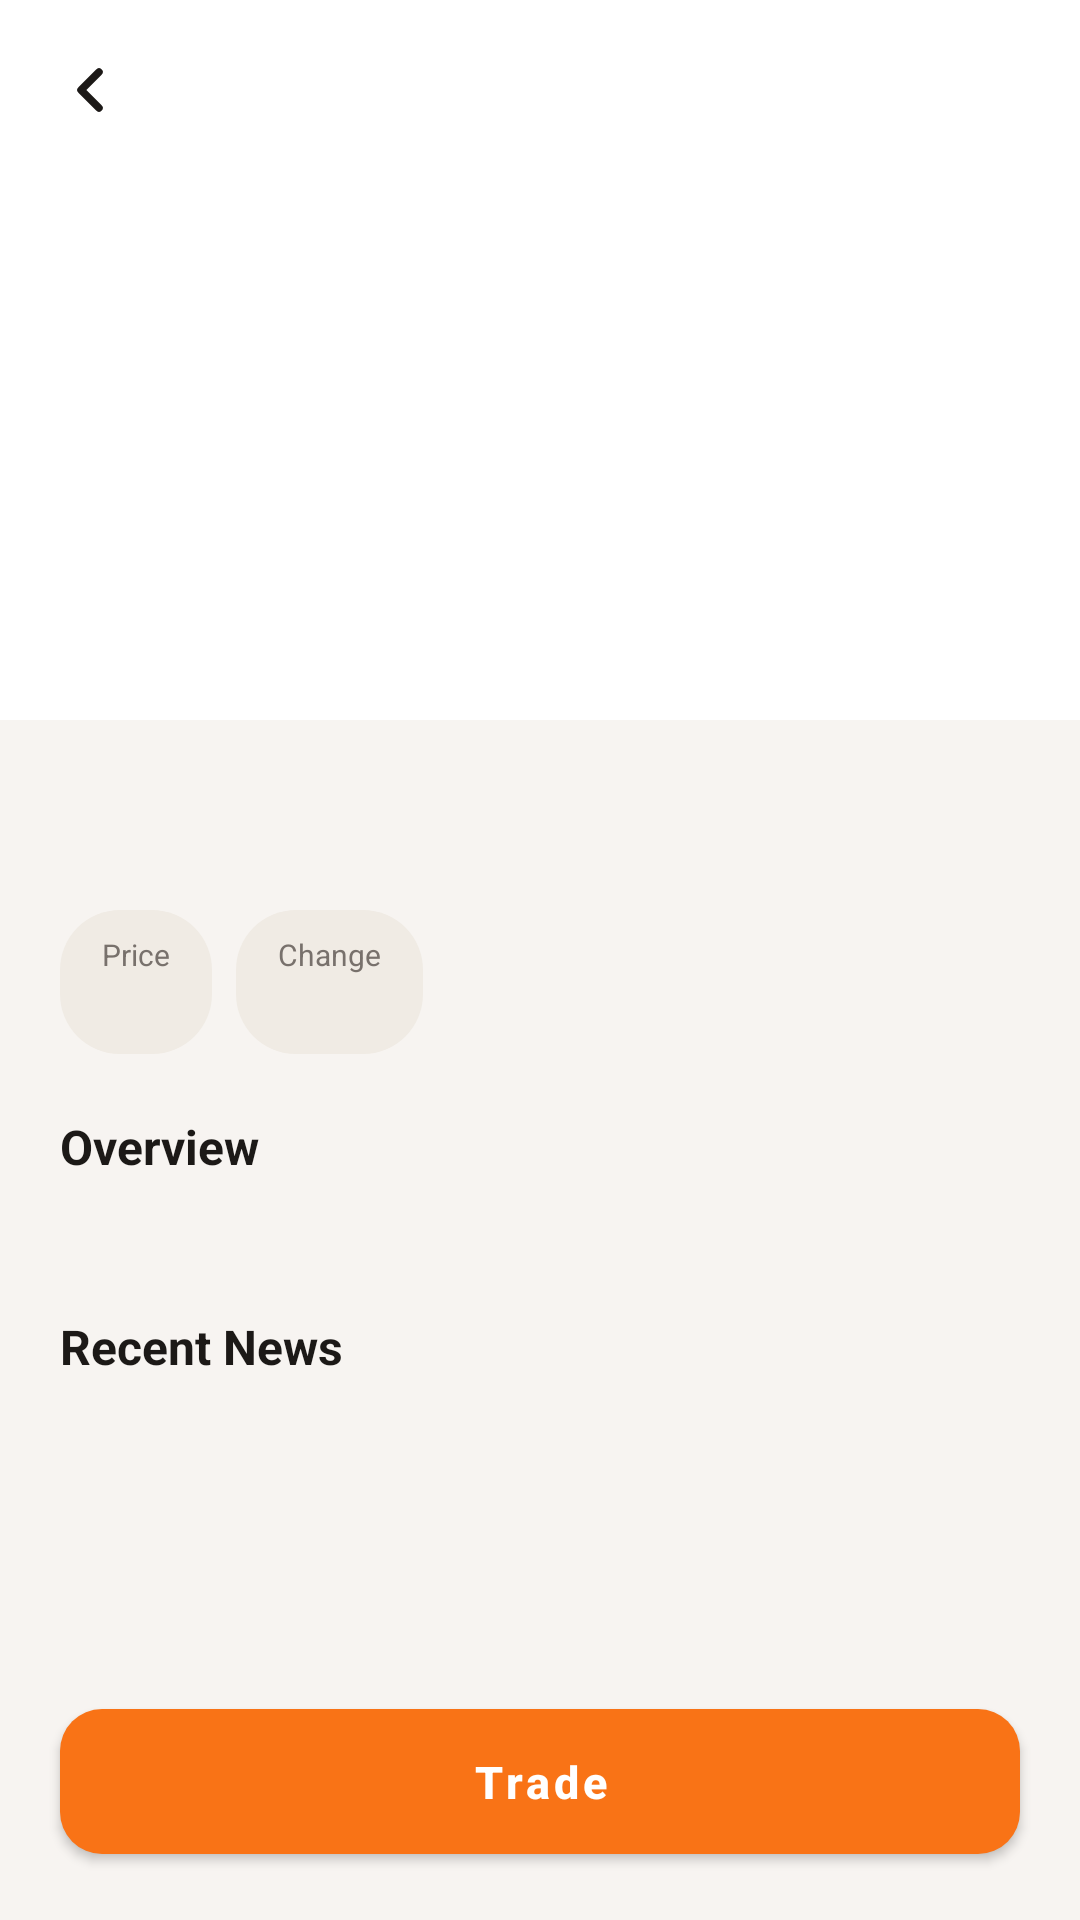

Screen size 1080*1920. Icon name, then its box in pixels as (x1, y1, x2, y2):
arrow left: (77, 68, 103, 112)
